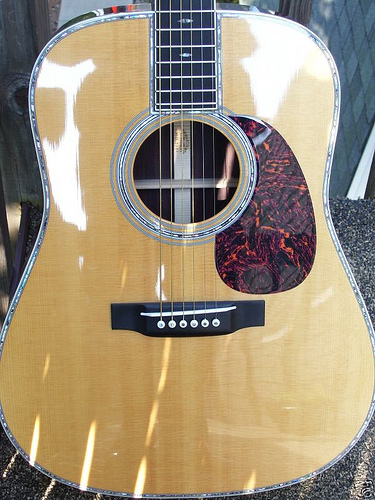guitar: (1, 1, 374, 498)
